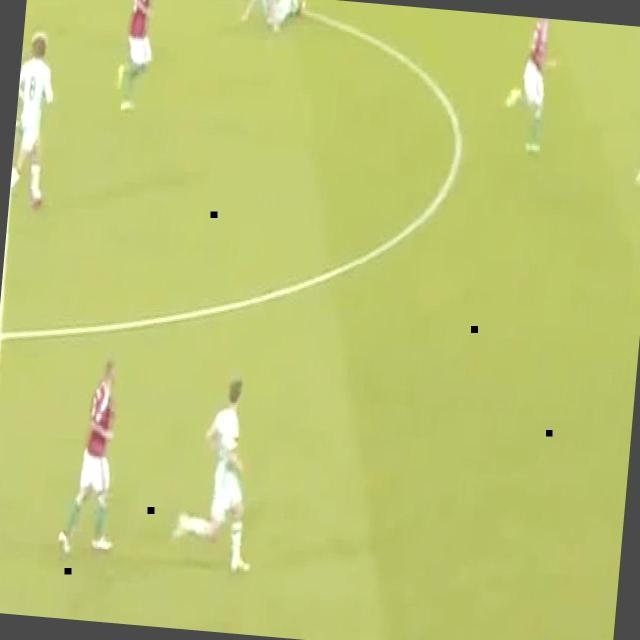player-white: (172, 376, 266, 576), (58, 357, 130, 555), (8, 31, 56, 220), (502, 15, 556, 156), (112, 0, 158, 116), (239, 0, 305, 36), (631, 73, 640, 227)
